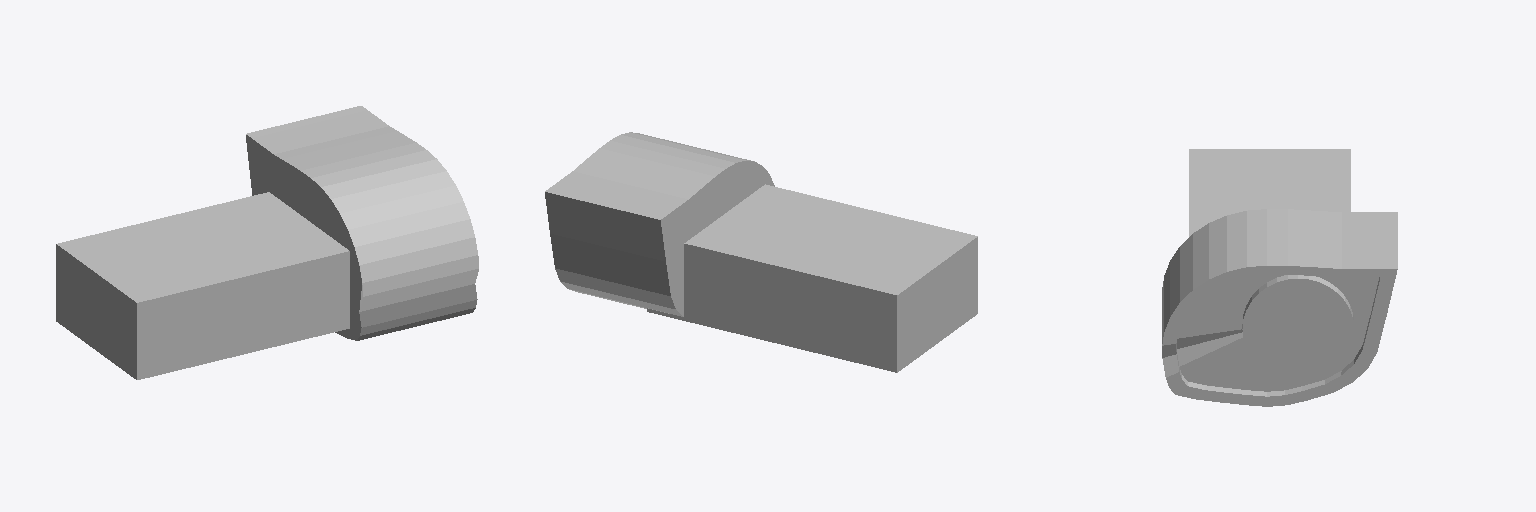
The model's file is eye_left.obj.
The picture shows the model from 3 angles: view 1: azimuth 30°, elevation 25°; view 2: azimuth 150°, elevation 25°; view 3: azimuth 270°, elevation 25°; orthographic projection.
Visible parts, largest first — view 1: LeftHead_Cube.010; view 2: LeftHead_Cube.010; view 3: LeftHead_Cube.010.
Part boxes in pixels (x1,y1,x2,y2): LeftHead_Cube.010: (56,106,478,379); LeftHead_Cube.010: (545,132,977,372); LeftHead_Cube.010: (1162,149,1397,406).
Bounding box in the file's own units: 1.15 × 0.4702 × 0.7107.